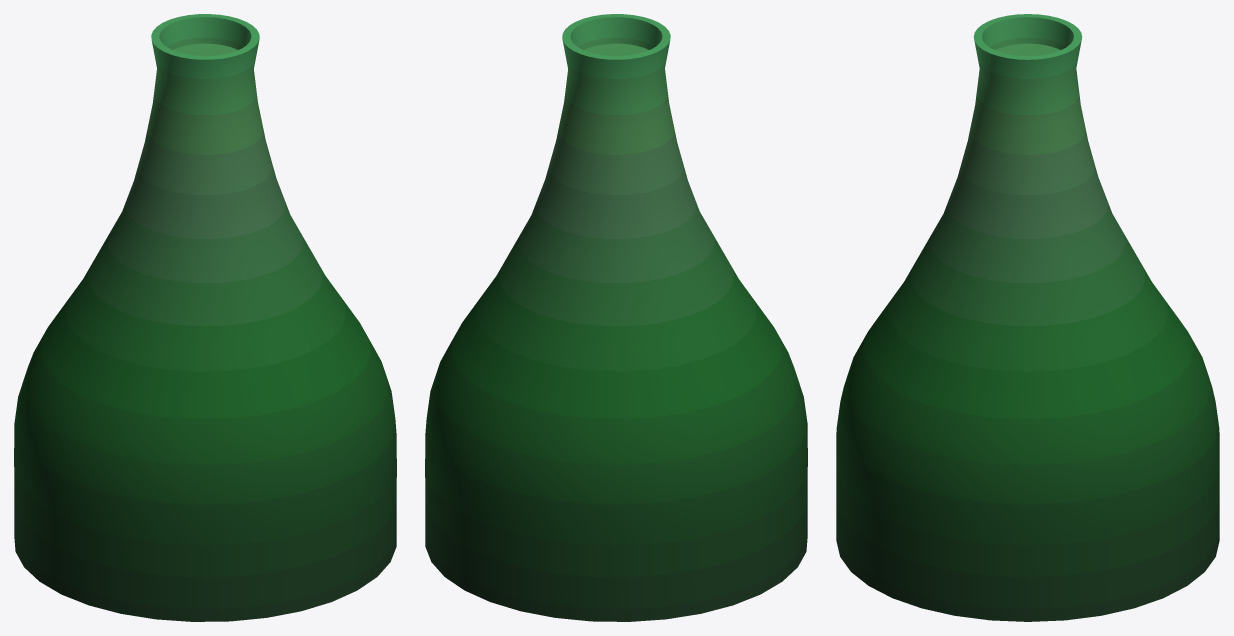
File: vase3.fbx
3 views of the same model, side by side, from view 1: azimuth 30°, elevation 25°; view 2: azimuth 150°, elevation 25°; view 3: azimuth 270°, elevation 25° (orthographic).
Visible parts, largest first — view 1: vase3; view 2: vase3; view 3: vase3.
Boxes of the visible parts, x1,y1,x2,y2 form: vase3: (14, 14, 396, 621); vase3: (425, 14, 807, 621); vase3: (836, 14, 1219, 621).
Bounding box in the file's own units: 18.8 × 27.29 × 18.8.
